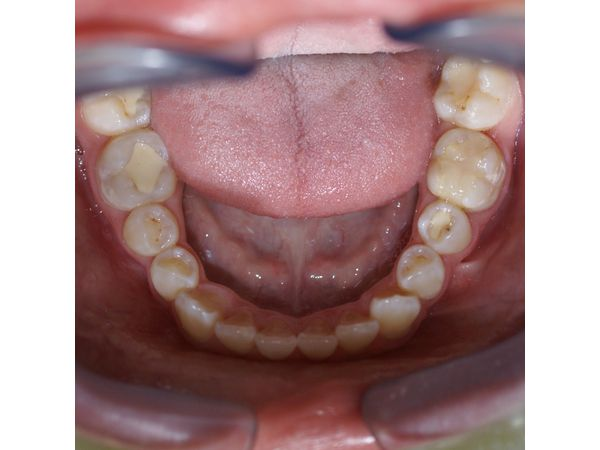LL1BC_decay: (394, 245, 443, 300)
LL1M_healthy: (426, 129, 508, 213)
LL2BC_decay: (418, 202, 471, 253)
LL2M_healthy: (433, 63, 510, 130)
LLCI_healthy: (298, 320, 337, 360)
LLC_healthy: (368, 290, 420, 348)
LLLI_healthy: (333, 314, 380, 354)
LR1BC_decay: (150, 243, 199, 300)
LR1M_decay: (92, 129, 177, 205)
LR2BC_decay: (123, 203, 180, 257)
LR2M_decay: (83, 87, 152, 135)
LRCI_healthy: (255, 320, 297, 362)
LRC_healthy: (173, 288, 223, 341)
LRLI_healthy: (214, 314, 259, 356)
